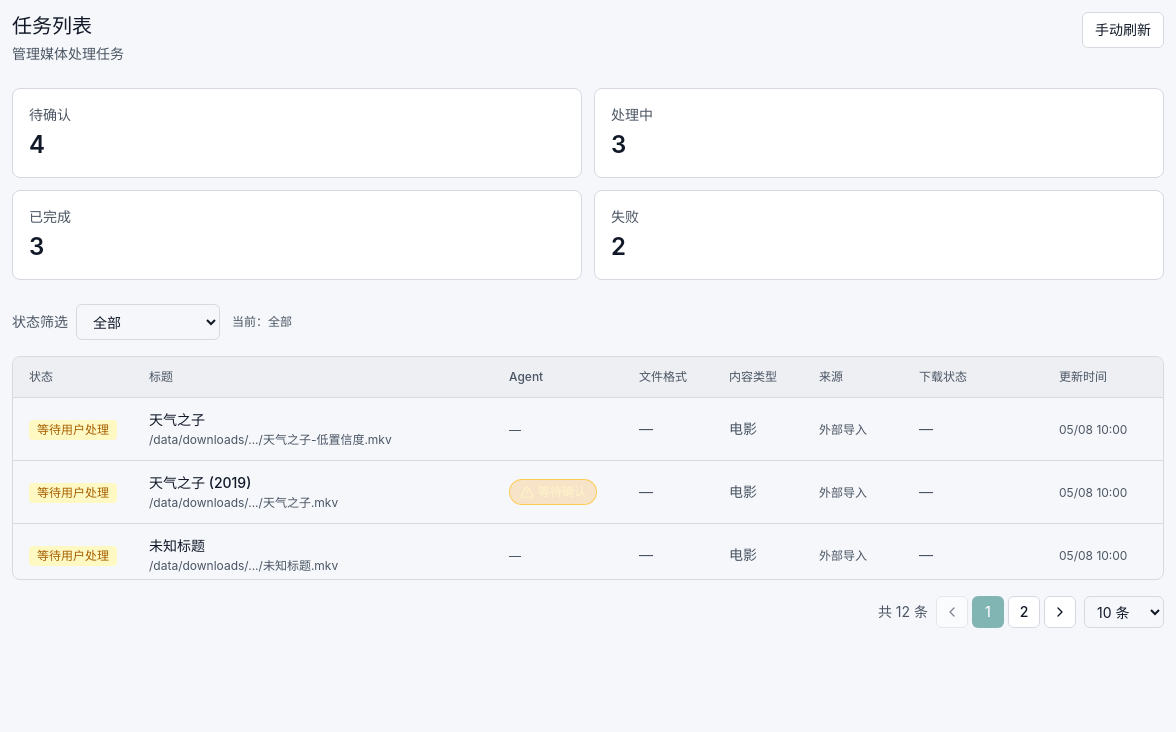
Test: TaskListPage › switches visible filter state when selecting task filters
The width and height of the screenshot is (1176, 732).
Expected: the text "共 12 条" is shown, top-left (878, 602), bottom-right (928, 622)
Select "待确认" in the dropdown labelled "状态筛选": (148,322) top-left (76, 304), bottom-right (220, 340)
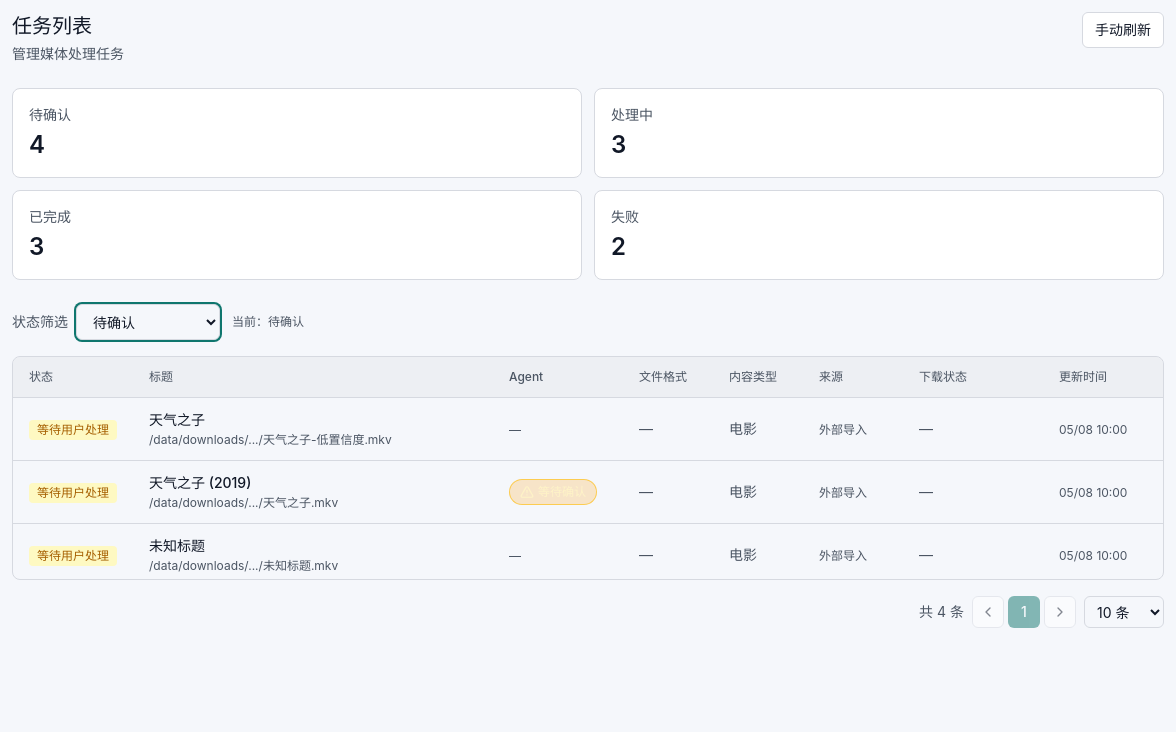
Expected: the text "共 4 条" is shown, top-left (919, 602), bottom-right (964, 622)
Select "已完成" in the dropdown labelled "状态筛选": (148,322) top-left (76, 304), bottom-right (220, 340)
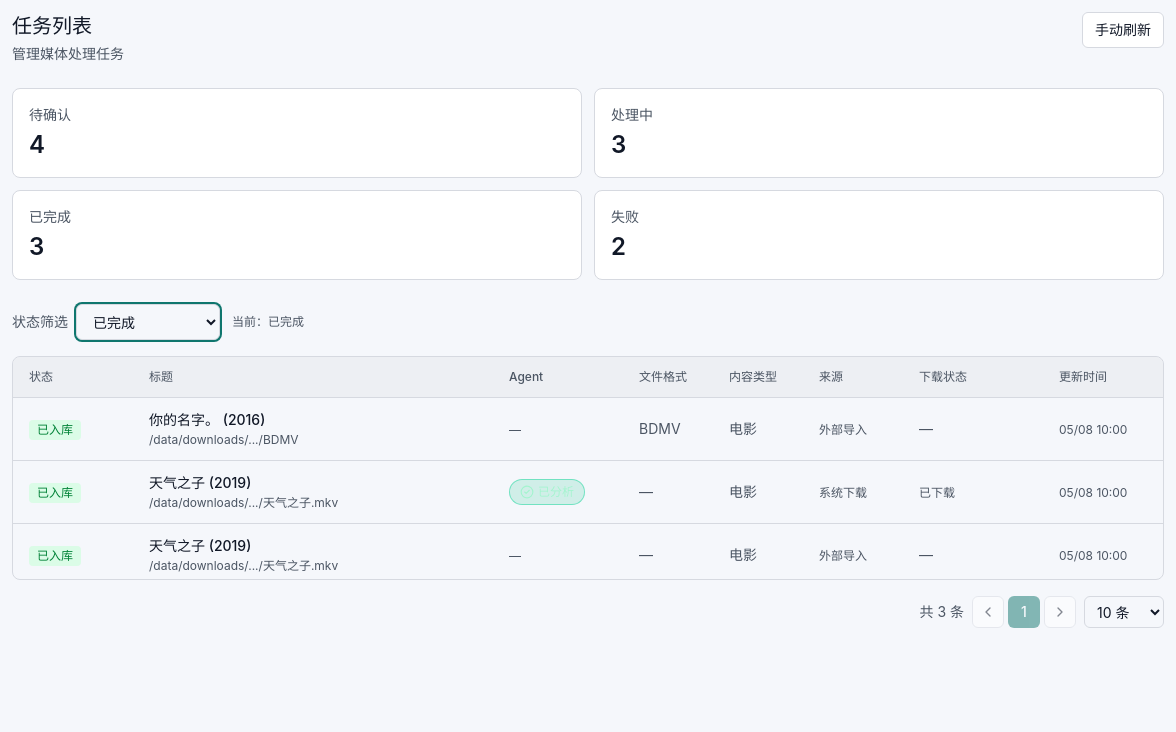
Expected: the text "共 3 条" is shown, top-left (920, 602), bottom-right (964, 622)
